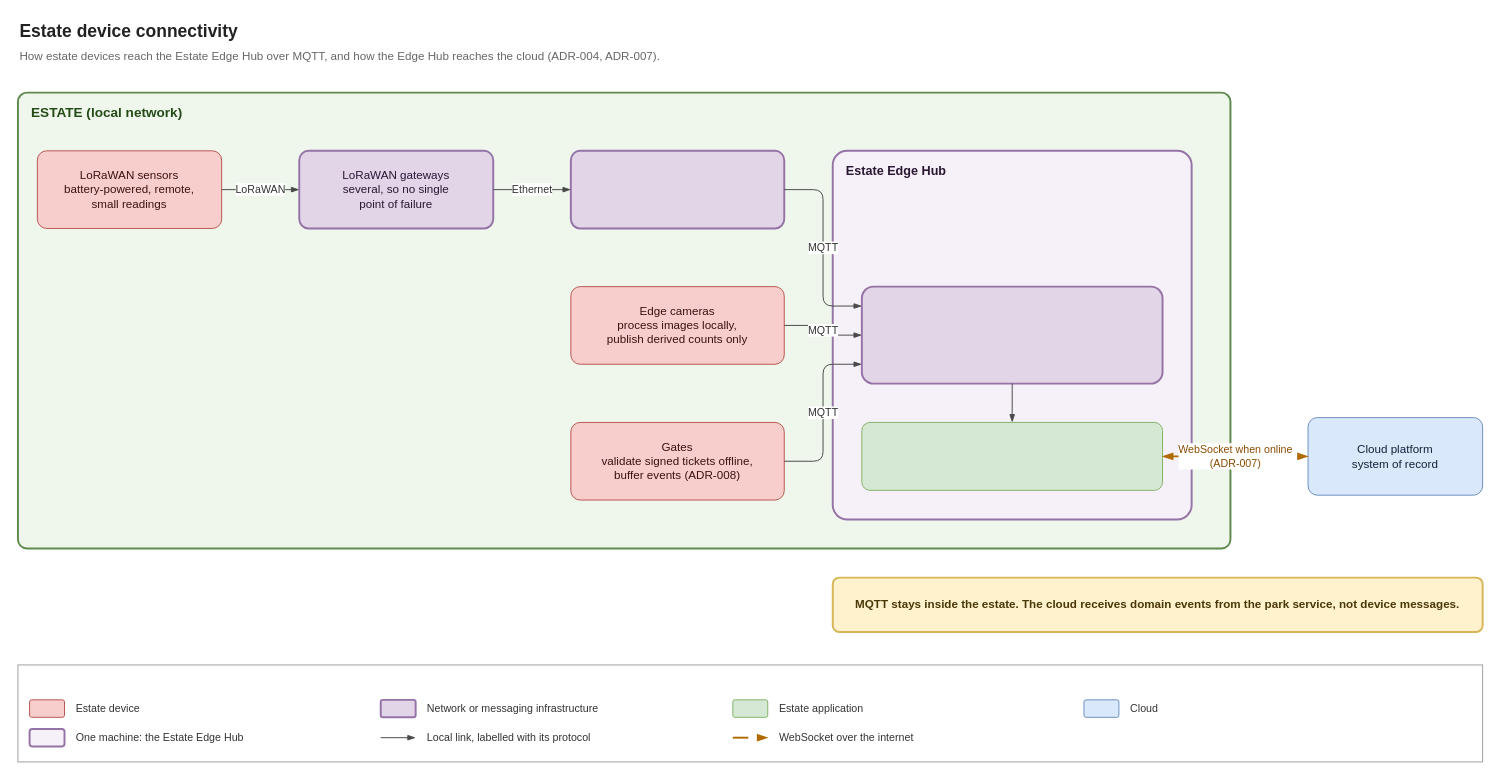
The diagram is 1500 pixels wide and 779 high, and some of its shapes have lost their labels. The box of each missing label's shape, as (x1, y1, x2, y2) in pixels:
Key: (17, 664, 1483, 762)
Local MQTT broker at-least-once delivery, stable event IDs: (860, 285, 1163, 384)
LoRaWAN Network Server authenticates devices, deduplicates radio messages: (569, 149, 785, 229)
Park service operational modules and Cloud Sync: (861, 421, 1163, 490)
